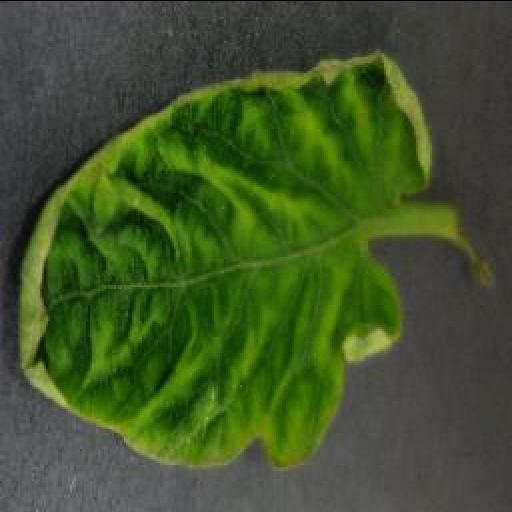disease_tomato: (15, 51, 433, 469)
